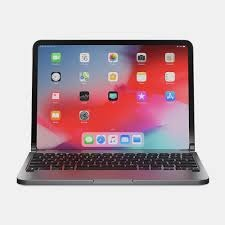keyboard: (14, 150, 210, 185)
